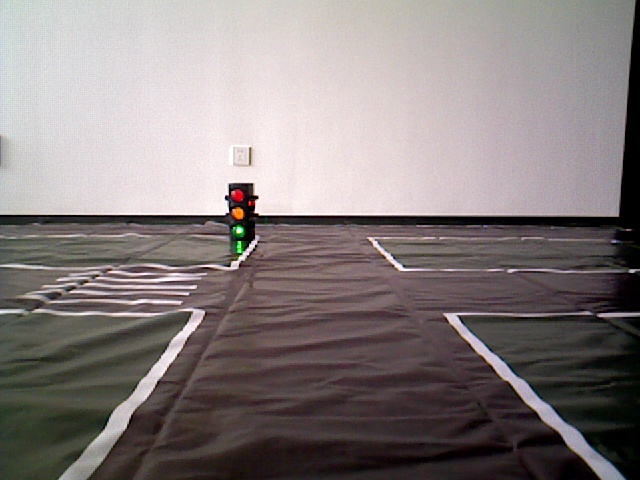green: (227, 184, 251, 236)
